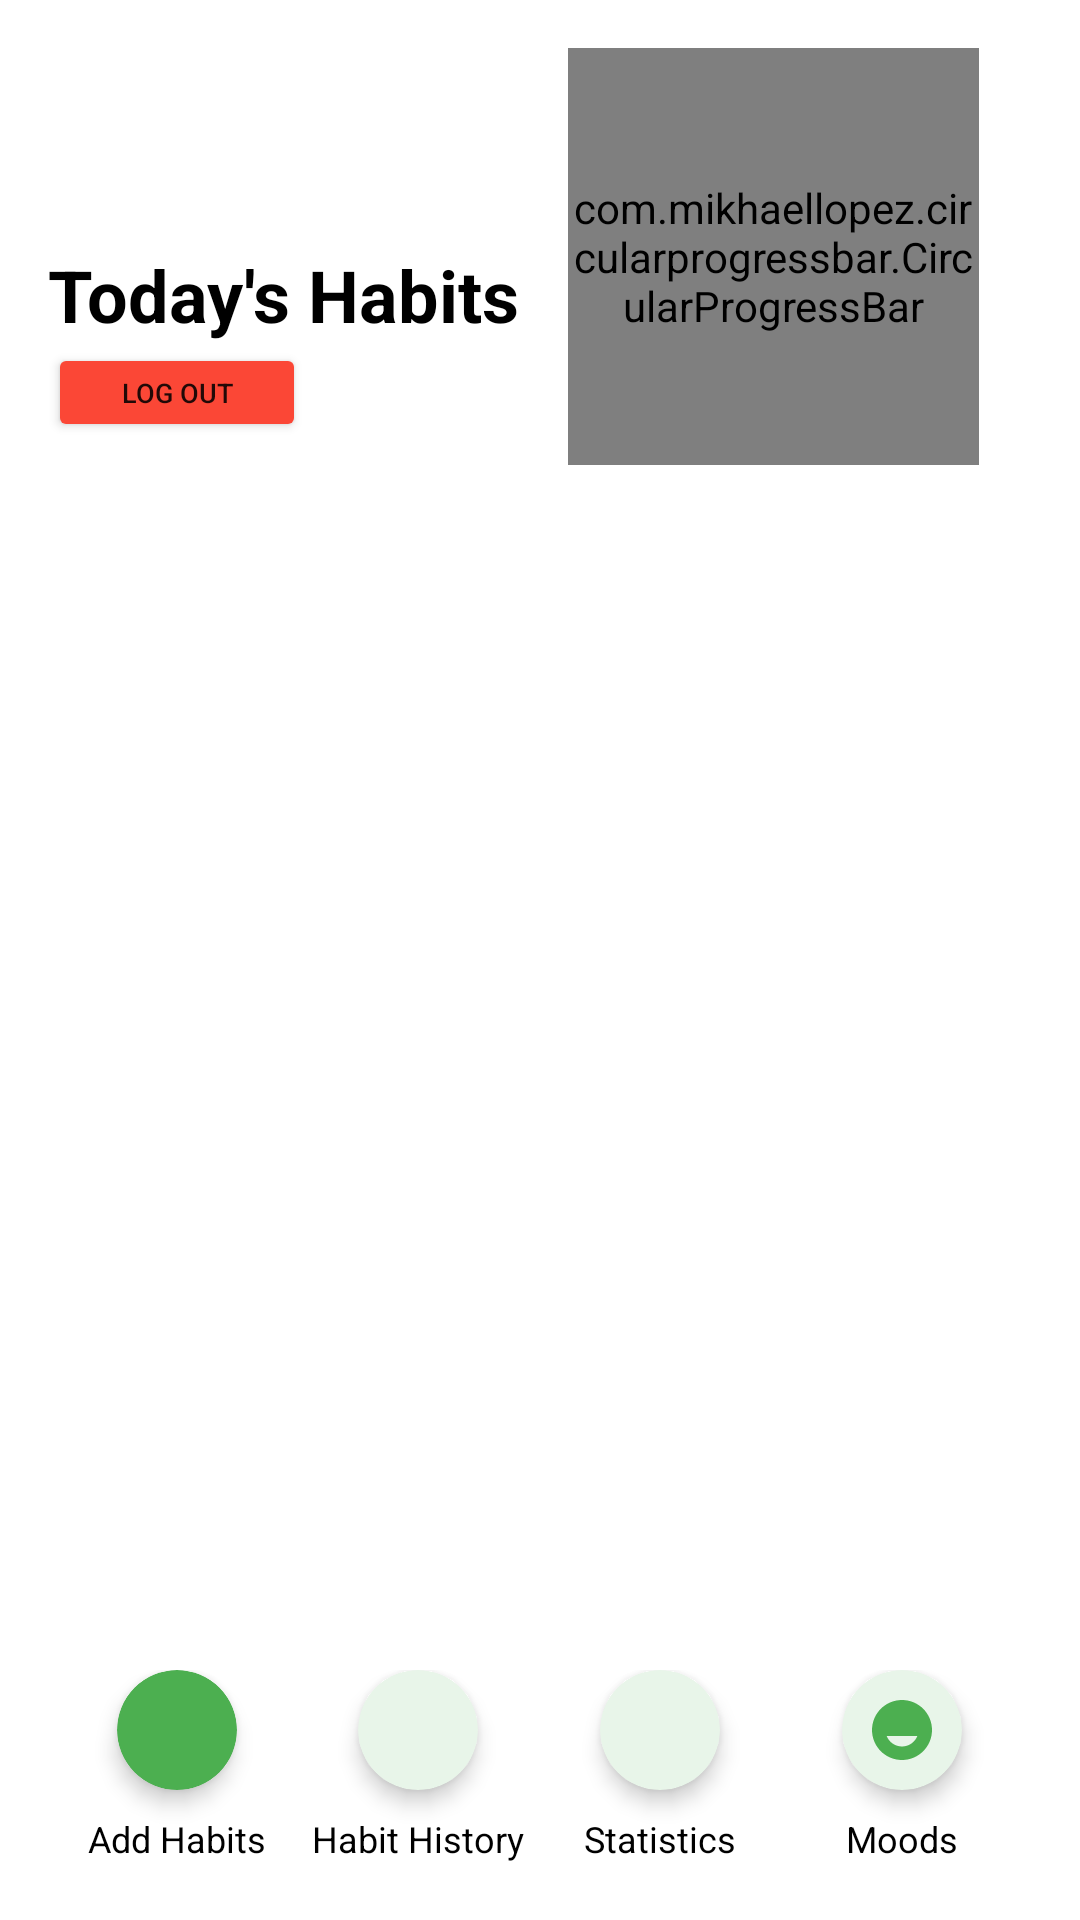

Icons on this 1080 x 1920 Android screen, each with its box as (x1, y1, x2, y2):
happy: (872, 1700, 932, 1760)
